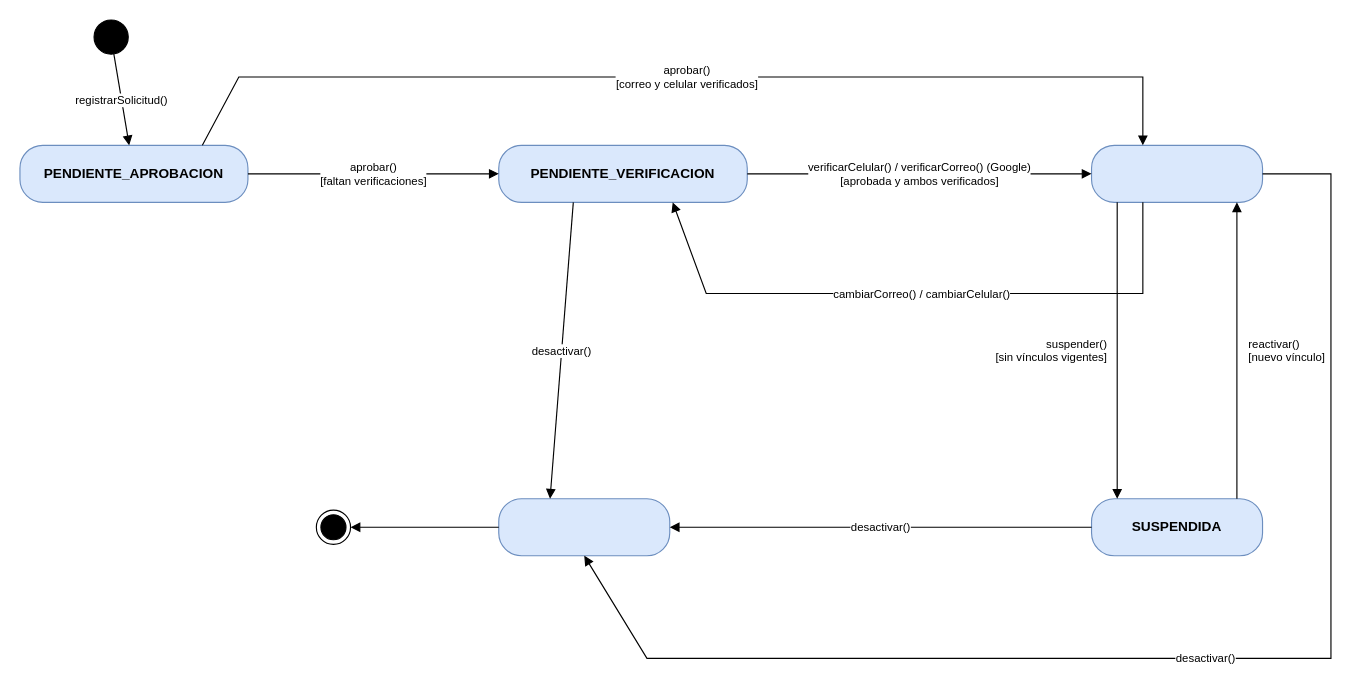
This 1360x687 diagram has some shape labels left out. Each missing label, with the box of its shape:
ACTIVA: (1090, 144, 1263, 202)
DESACTIVADA: (498, 498, 670, 556)
